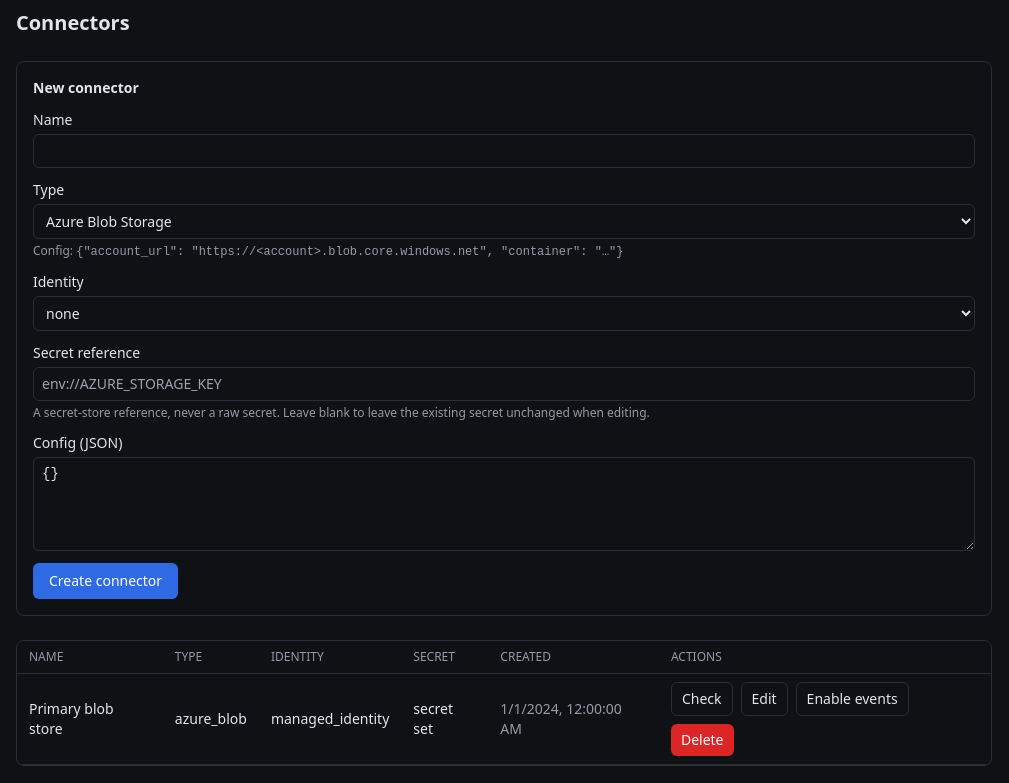
ConnectorsPage › deletes a connector only after confirming
Click the button "Delete".
click(702, 740)  # box [671,724,734,756]
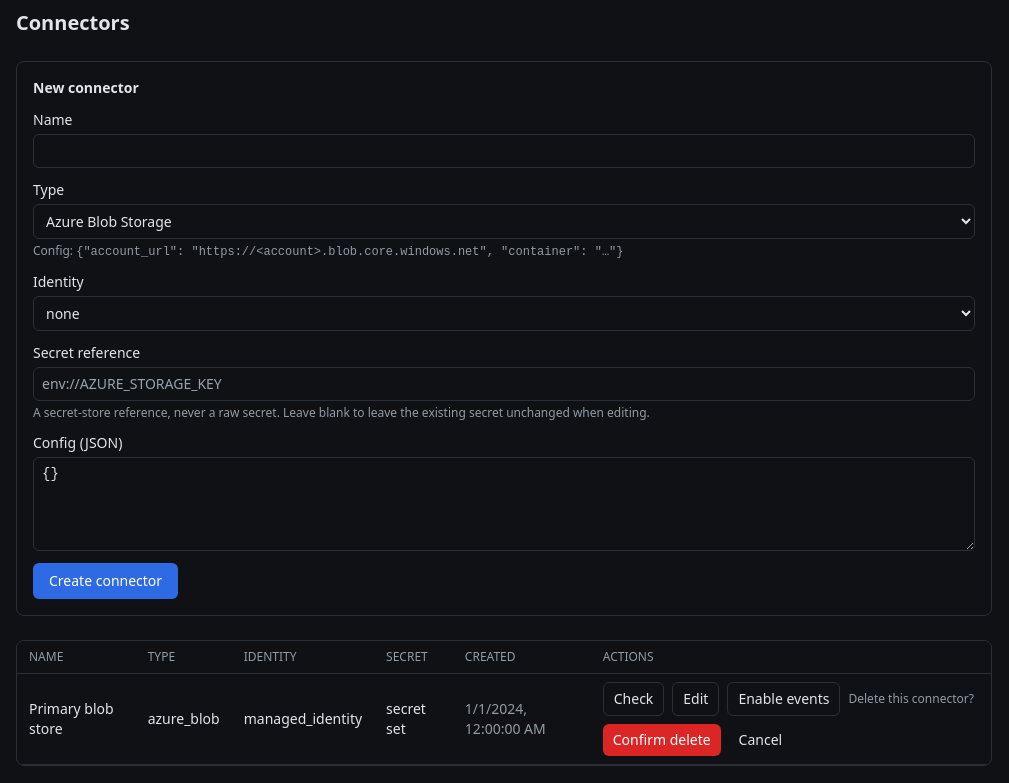
Click the button "Confirm delete".
click(662, 740)  # box [603,724,721,756]
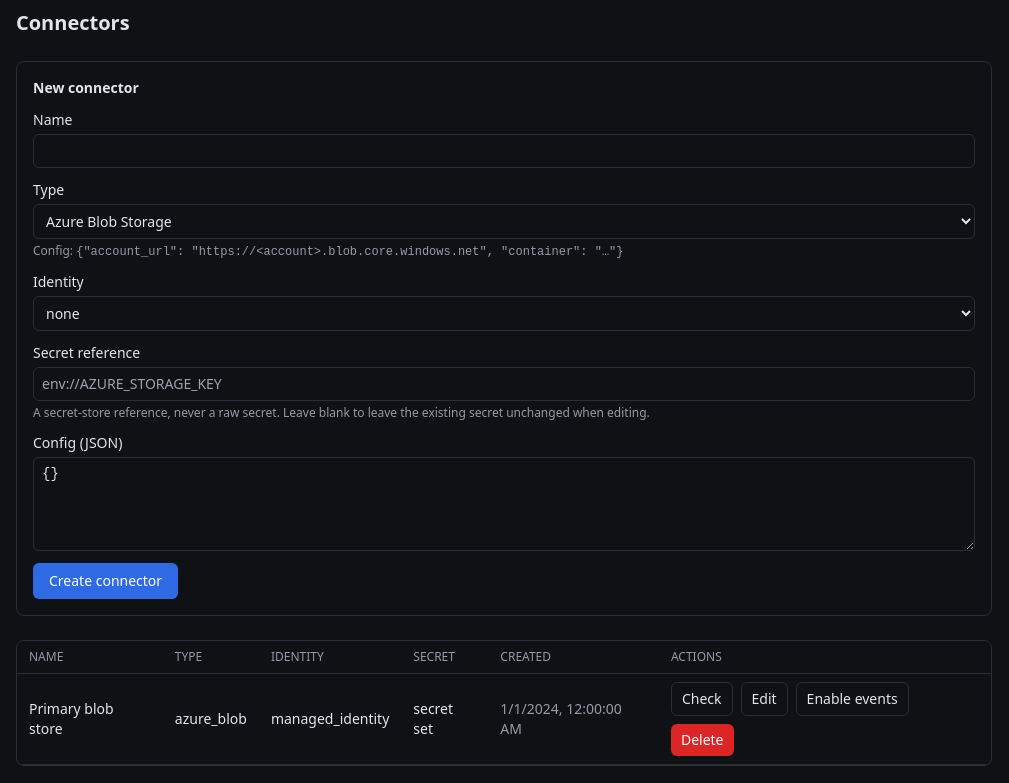
Now the button "Confirm delete" is gone
